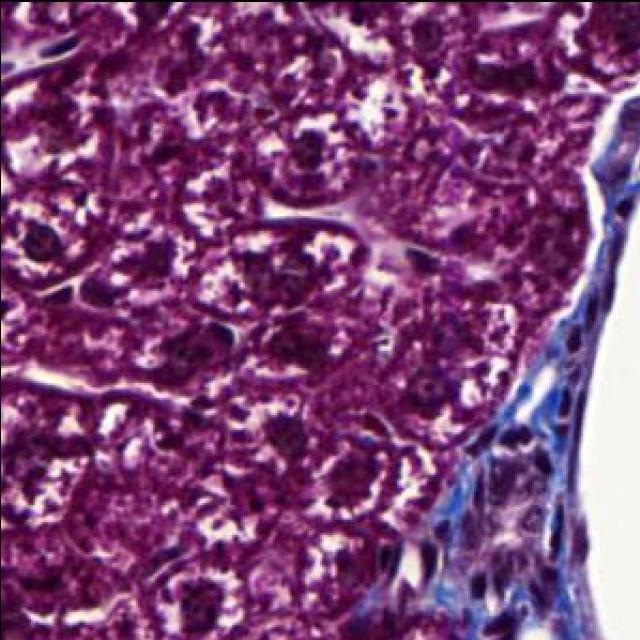inflammation: (264, 315, 334, 377), (159, 321, 232, 374), (402, 366, 451, 417), (179, 578, 222, 632), (262, 414, 304, 459), (548, 494, 572, 566), (21, 220, 61, 261), (289, 129, 326, 170), (410, 15, 442, 57), (420, 539, 438, 584), (499, 425, 532, 448), (585, 292, 598, 326), (565, 325, 581, 352), (470, 571, 484, 598), (560, 386, 571, 418)
